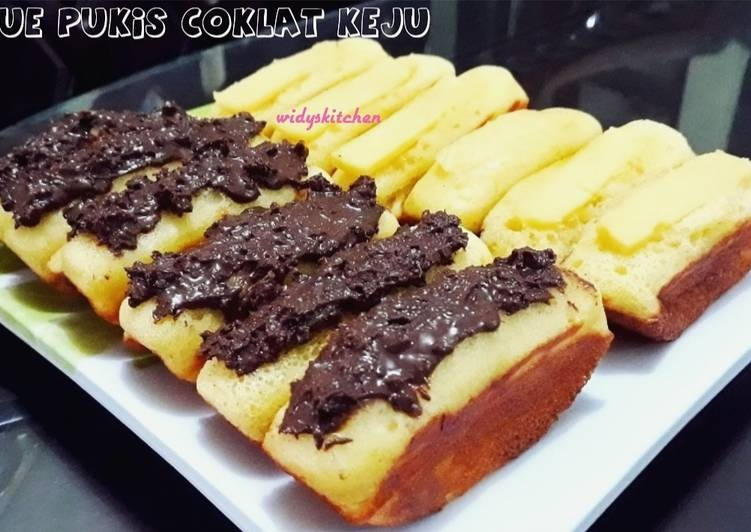pukis: (247, 250, 643, 523)
